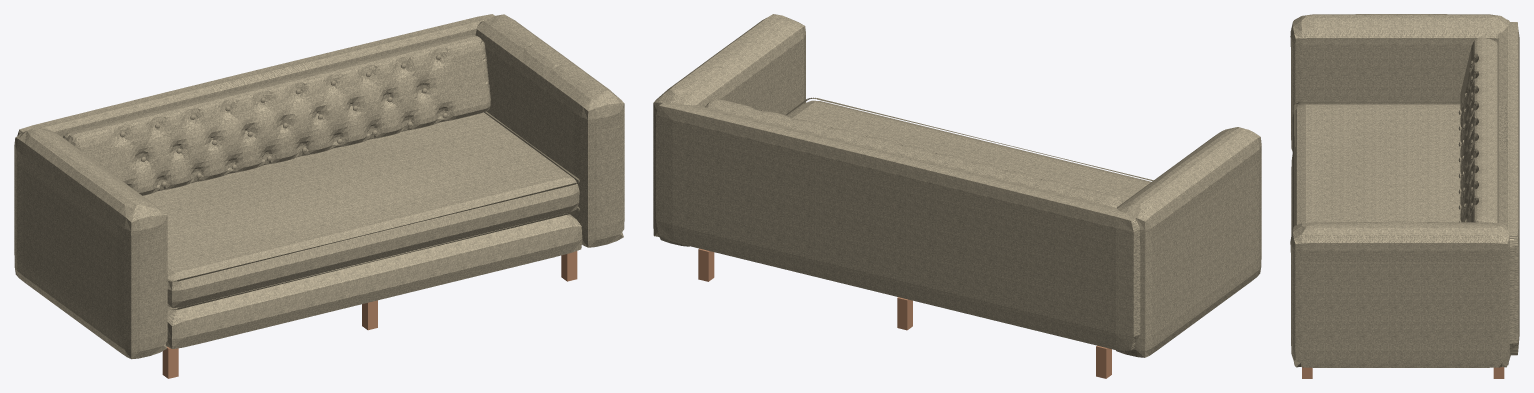
Rendered from CAL-CHS-3-seat.glb.
The picture shows the model from 3 angles, left to right: view 1: azimuth 30°, elevation 25°; view 2: azimuth 150°, elevation 25°; view 3: azimuth 270°, elevation 25°; orthographic projection. The views are drawn at different scales.
Parts seen in each view (by area): view 1: seat:fabric:eyJwcmVzZXQiOiJib3VjbGUiLCJ3YXJwIjoib2F0Iiwid2Vm, inside-back:fabric:eyJwcmVzZXQiOiJib3VjbGUiLCJ3YXJwIjoib2F0I, arm-pad-l:fabric:eyJwcmVzZXQiOiJib3VjbGUiLCJ3YXJwIjoib2F0Iiw, arm-pad-r:fabric:eyJwcmVzZXQiOiJib3VjbGUiLCJ3YXJwIjoib2F0Iiw, deck:fabric:eyJwcmVzZXQiOiJib3VjbGUiLCJ3YXJwIjoib2F0Iiwid2Vm, back-pad:fabric:eyJwcmVzZXQiOiJib3VjbGUiLCJ3YXJwIjoib2F0Iiwi, seat:piping:pbr, inside-back:buttons:pbr; view 2: back-pad:fabric:eyJwcmVzZXQiOiJib3VjbGUiLCJ3YXJwIjoib2F0Iiwi, arm-pad-l:fabric:eyJwcmVzZXQiOiJib3VjbGUiLCJ3YXJwIjoib2F0Iiw, arm-pad-r:fabric:eyJwcmVzZXQiOiJib3VjbGUiLCJ3YXJwIjoib2F0Iiw, seat:fabric:eyJwcmVzZXQiOiJib3VjbGUiLCJ3YXJwIjoib2F0Iiwid2Vm, inside-back:fabric:eyJwcmVzZXQiOiJib3VjbGUiLCJ3YXJwIjoib2F0I, seat:piping:pbr, leg-br:pbr; view 3: arm-pad-r:fabric:eyJwcmVzZXQiOiJib3VjbGUiLCJ3YXJwIjoib2F0Iiw, seat:fabric:eyJwcmVzZXQiOiJib3VjbGUiLCJ3YXJwIjoib2F0Iiwid2Vm, arm-pad-l:fabric:eyJwcmVzZXQiOiJib3VjbGUiLCJ3YXJwIjoib2F0Iiw, inside-back:fabric:eyJwcmVzZXQiOiJib3VjbGUiLCJ3YXJwIjoib2F0I, back-pad:fabric:eyJwcmVzZXQiOiJib3VjbGUiLCJ3YXJwIjoib2F0Iiwi, seat:piping:pbr, inside-back:buttons:pbr.
Part boxes in pixels (bbox=[...]): seat:fabric:eyJwcmVzZXQiOiJib3VjbGUiLCJ3YXJwIjoib2F0Iiwid2Vm: bbox=[143, 112, 579, 307]; inside-back:fabric:eyJwcmVzZXQiOiJib3VjbGUiLCJ3YXJwIjoib2F0I: bbox=[63, 35, 490, 195]; arm-pad-l:fabric:eyJwcmVzZXQiOiJib3VjbGUiLCJ3YXJwIjoib2F0Iiw: bbox=[14, 127, 167, 359]; arm-pad-r:fabric:eyJwcmVzZXQiOiJib3VjbGUiLCJ3YXJwIjoib2F0Iiw: bbox=[475, 14, 624, 247]; deck:fabric:eyJwcmVzZXQiOiJib3VjbGUiLCJ3YXJwIjoib2F0Iiwid2Vm: bbox=[165, 213, 582, 348]; back-pad:fabric:eyJwcmVzZXQiOiJib3VjbGUiLCJ3YXJwIjoib2F0Iiwi: bbox=[17, 14, 494, 137]; seat:piping:pbr: bbox=[167, 111, 579, 309]; inside-back:buttons:pbr: bbox=[120, 54, 447, 186]; back-pad:fabric:eyJwcmVzZXQiOiJib3VjbGUiLCJ3YXJwIjoib2F0Iiwi: bbox=[656, 102, 1140, 350]; arm-pad-l:fabric:eyJwcmVzZXQiOiJib3VjbGUiLCJ3YXJwIjoib2F0Iiw: bbox=[1116, 127, 1261, 357]; arm-pad-r:fabric:eyJwcmVzZXQiOiJib3VjbGUiLCJ3YXJwIjoib2F0Iiw: bbox=[653, 14, 805, 246]; seat:fabric:eyJwcmVzZXQiOiJib3VjbGUiLCJ3YXJwIjoib2F0Iiwid2Vm: bbox=[787, 100, 1151, 202]; inside-back:fabric:eyJwcmVzZXQiOiJib3VjbGUiLCJ3YXJwIjoib2F0I: bbox=[705, 99, 1122, 207]; seat:piping:pbr: bbox=[785, 97, 1153, 180]; leg-br:pbr: bbox=[698, 248, 714, 281]; arm-pad-r:fabric:eyJwcmVzZXQiOiJib3VjbGUiLCJ3YXJwIjoib2F0Iiw: bbox=[1290, 221, 1510, 367]; seat:fabric:eyJwcmVzZXQiOiJib3VjbGUiLCJ3YXJwIjoib2F0Iiwid2Vm: bbox=[1292, 104, 1461, 229]; arm-pad-l:fabric:eyJwcmVzZXQiOiJib3VjbGUiLCJ3YXJwIjoib2F0Iiw: bbox=[1290, 14, 1509, 151]; inside-back:fabric:eyJwcmVzZXQiOiJib3VjbGUiLCJ3YXJwIjoib2F0I: bbox=[1460, 37, 1498, 222]; back-pad:fabric:eyJwcmVzZXQiOiJib3VjbGUiLCJ3YXJwIjoib2F0Iiwi: bbox=[1498, 22, 1519, 355]; seat:piping:pbr: bbox=[1294, 102, 1460, 225]; inside-back:buttons:pbr: bbox=[1458, 60, 1472, 222].
Size of the model in its own units: 2.2 by 0.76 by 0.95.
Materials: 14 (6 with a texture image).
